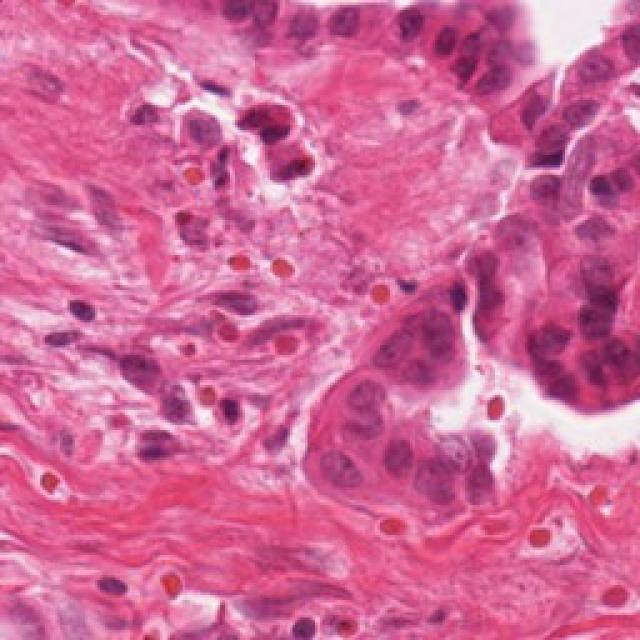abnormal: (497, 52, 565, 156), (305, 438, 382, 517), (472, 198, 548, 272), (511, 158, 581, 234), (457, 428, 518, 515), (443, 232, 515, 300), (556, 293, 640, 348), (512, 310, 585, 372), (544, 69, 608, 139), (572, 240, 638, 305), (560, 30, 622, 98), (364, 310, 424, 380), (405, 299, 468, 364), (418, 435, 467, 518), (517, 115, 583, 172), (380, 420, 422, 502), (278, 0, 335, 60), (333, 365, 400, 413), (383, 0, 435, 60), (460, 285, 508, 347), (325, 0, 375, 53)
